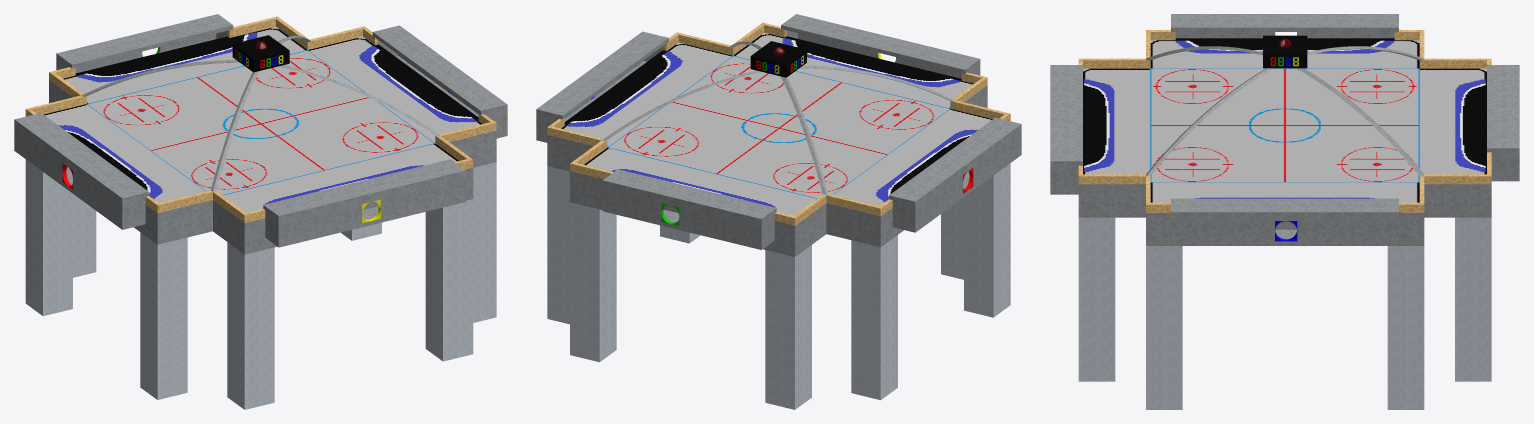
File: Table4_3.FBX
3 renders of one model, left to right at view 1: azimuth 30°, elevation 25°; view 2: azimuth 150°, elevation 25°; view 3: azimuth 270°, elevation 25°, orthographic. The views are drawn at different scales.
Parts seen in each view (by area): view 1: Layer0_001; view 2: Layer0_001; view 3: Layer0_001.
Part boxes in pixels (x1=…): Layer0_001: x1=14, y1=14, x2=507, y2=409; Layer0_001: x1=536, y1=14, x2=1021, y2=409; Layer0_001: x1=1050, y1=14, x2=1519, y2=409.
Size of the model in its own units: 2604 by 1739 by 2604.
Materials: 11 (5 with a texture image).
